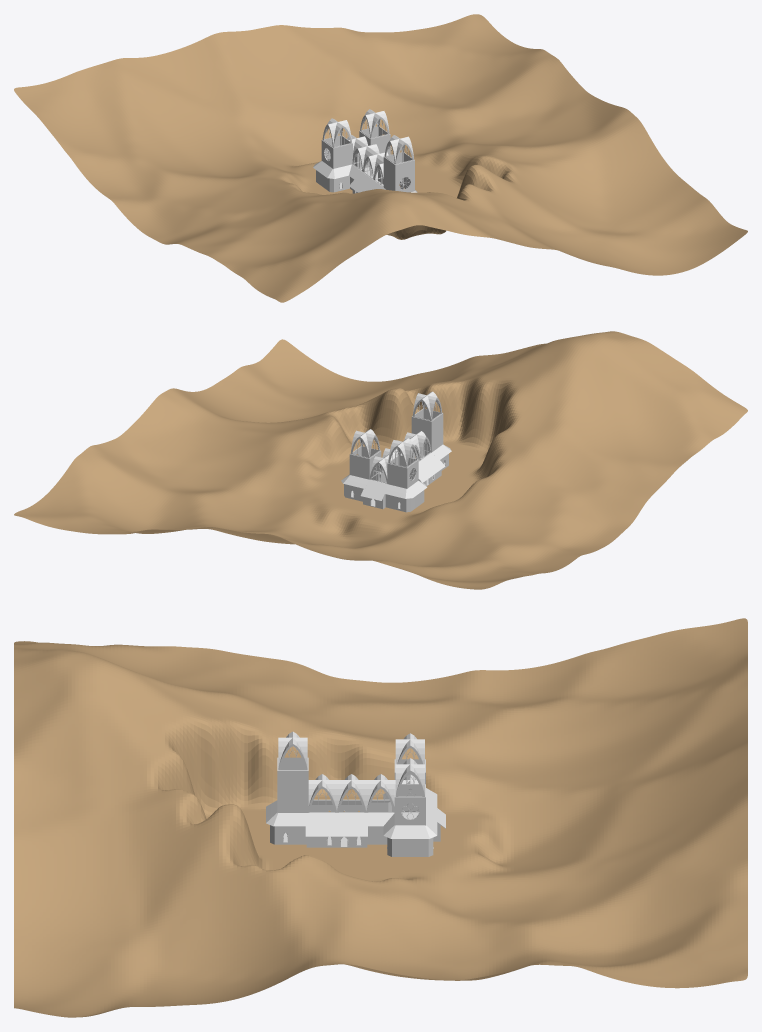
Rendered from gothic_church_export_v1.fbx.
3 views of the same model, one above another, from view 1: azimuth 30°, elevation 25°; view 2: azimuth 150°, elevation 25°; view 3: azimuth 270°, elevation 25° (orthographic). The views are drawn at different scales.
Parts seen in each view (by area): view 1: Ground, LOD_B_Ceiling_Crossing_4_sides_proxy.001, LOD_B_Ceiling_Crossing_4_sides_proxy.002, LOD_B_Ceiling_Crossing_4_sides_proxy; view 2: Ground, LOD_B_Ceiling_Crossing_4_sides_proxy.001, LOD_B_Ceiling_Crossing_4_sides_proxy.002, LOD_B_Ceiling_Crossing_4_sides_proxy; view 3: Ground, LOD_B_Ceiling_Crossing_4_sides_proxy, LOD_B_Ceiling_Crossing_4_sides_proxy.001, SM_celleing_crossing 8x8x8 goodone_proxy.002, LOD_A_Roof_plate_proxy.005, LOD_A_Roof_plate_proxy.004, SM_celleing_crossing 8x8x8 goodone_proxy.003, SM_celleing_crossing 8x8x8 goodone_proxy.001, LOD_A_Wall_8x8_Circle_Window_proxy.001, LOD_B_Ceiling_Crossing_4_sides_proxy.002.
Boxes of the visible parts, box(x1,y1,x2,y2) form: Ground: box(14, 14, 747, 302); LOD_B_Ceiling_Crossing_4_sides_proxy.001: box(360, 109, 389, 138); LOD_B_Ceiling_Crossing_4_sides_proxy.002: box(322, 118, 351, 147); LOD_B_Ceiling_Crossing_4_sides_proxy: box(384, 135, 413, 164); Ground: box(14, 331, 747, 589); LOD_B_Ceiling_Crossing_4_sides_proxy.001: box(350, 429, 380, 458); LOD_B_Ceiling_Crossing_4_sides_proxy.002: box(388, 438, 417, 467); LOD_B_Ceiling_Crossing_4_sides_proxy: box(412, 391, 442, 421); Ground: box(14, 618, 747, 1017); LOD_B_Ceiling_Crossing_4_sides_proxy: box(278, 731, 307, 770); LOD_B_Ceiling_Crossing_4_sides_proxy.001: box(395, 758, 424, 796); SM_celleing_crossing 8x8x8 goodone_proxy.002: box(337, 774, 366, 812); LOD_A_Roof_plate_proxy.005: box(337, 812, 366, 836); LOD_A_Roof_plate_proxy.004: box(307, 812, 336, 836); SM_celleing_crossing 8x8x8 goodone_proxy.003: box(308, 774, 336, 812); SM_celleing_crossing 8x8x8 goodone_proxy.001: box(366, 774, 395, 812); LOD_A_Wall_8x8_Circle_Window_proxy.001: box(395, 798, 424, 825); LOD_B_Ceiling_Crossing_4_sides_proxy.002: box(395, 733, 424, 764).
Size of the model in its own units: 20000 by 4945 by 20000.
